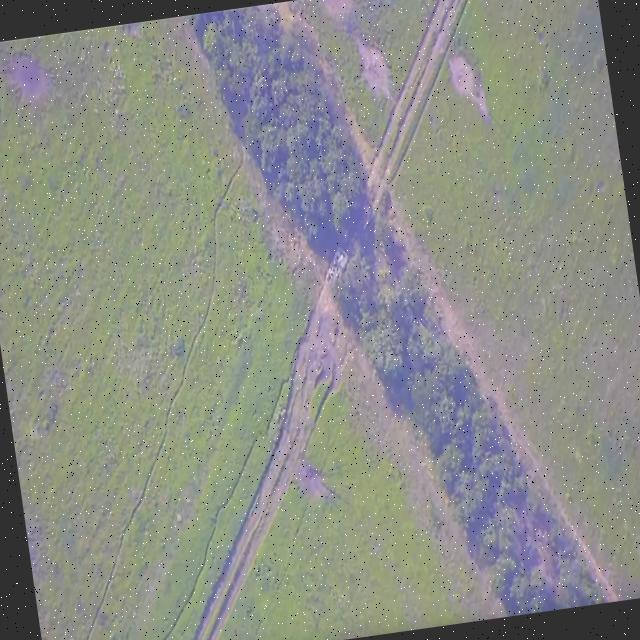AIFV: (320, 243, 357, 297)
